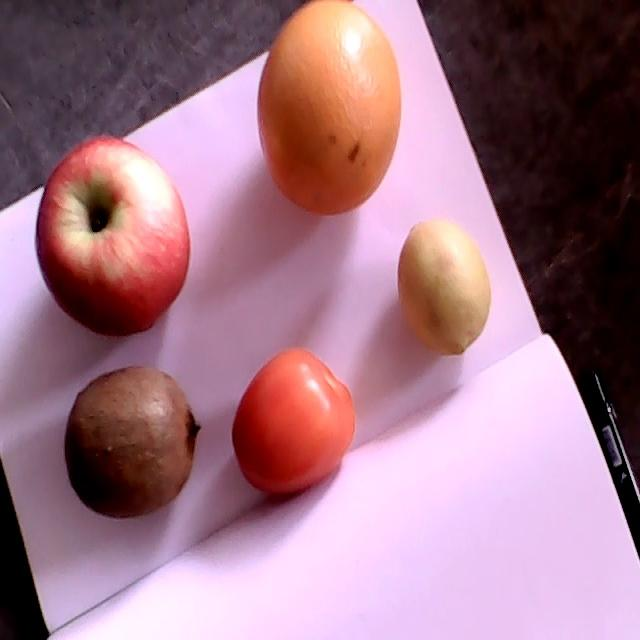apple: (36, 136, 190, 339)
kiwi: (65, 366, 201, 519)
lemon: (397, 222, 490, 355)
orange: (258, 0, 401, 214)
tomato: (232, 347, 355, 494)
